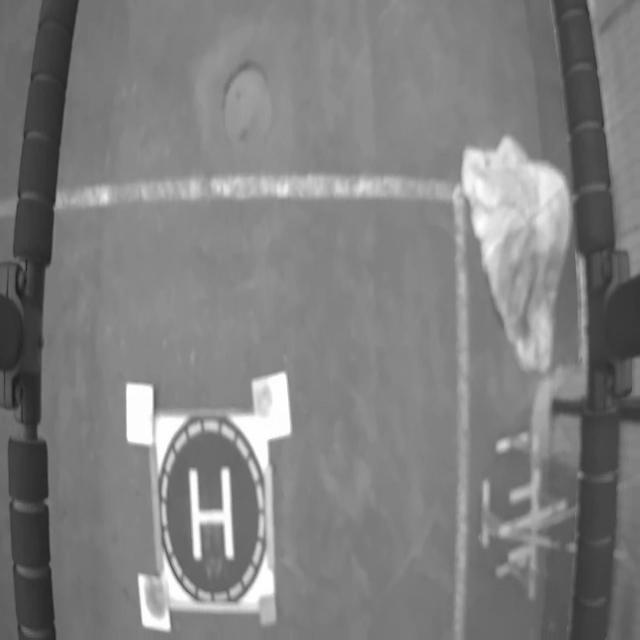Helipad: (188, 469, 235, 563)
